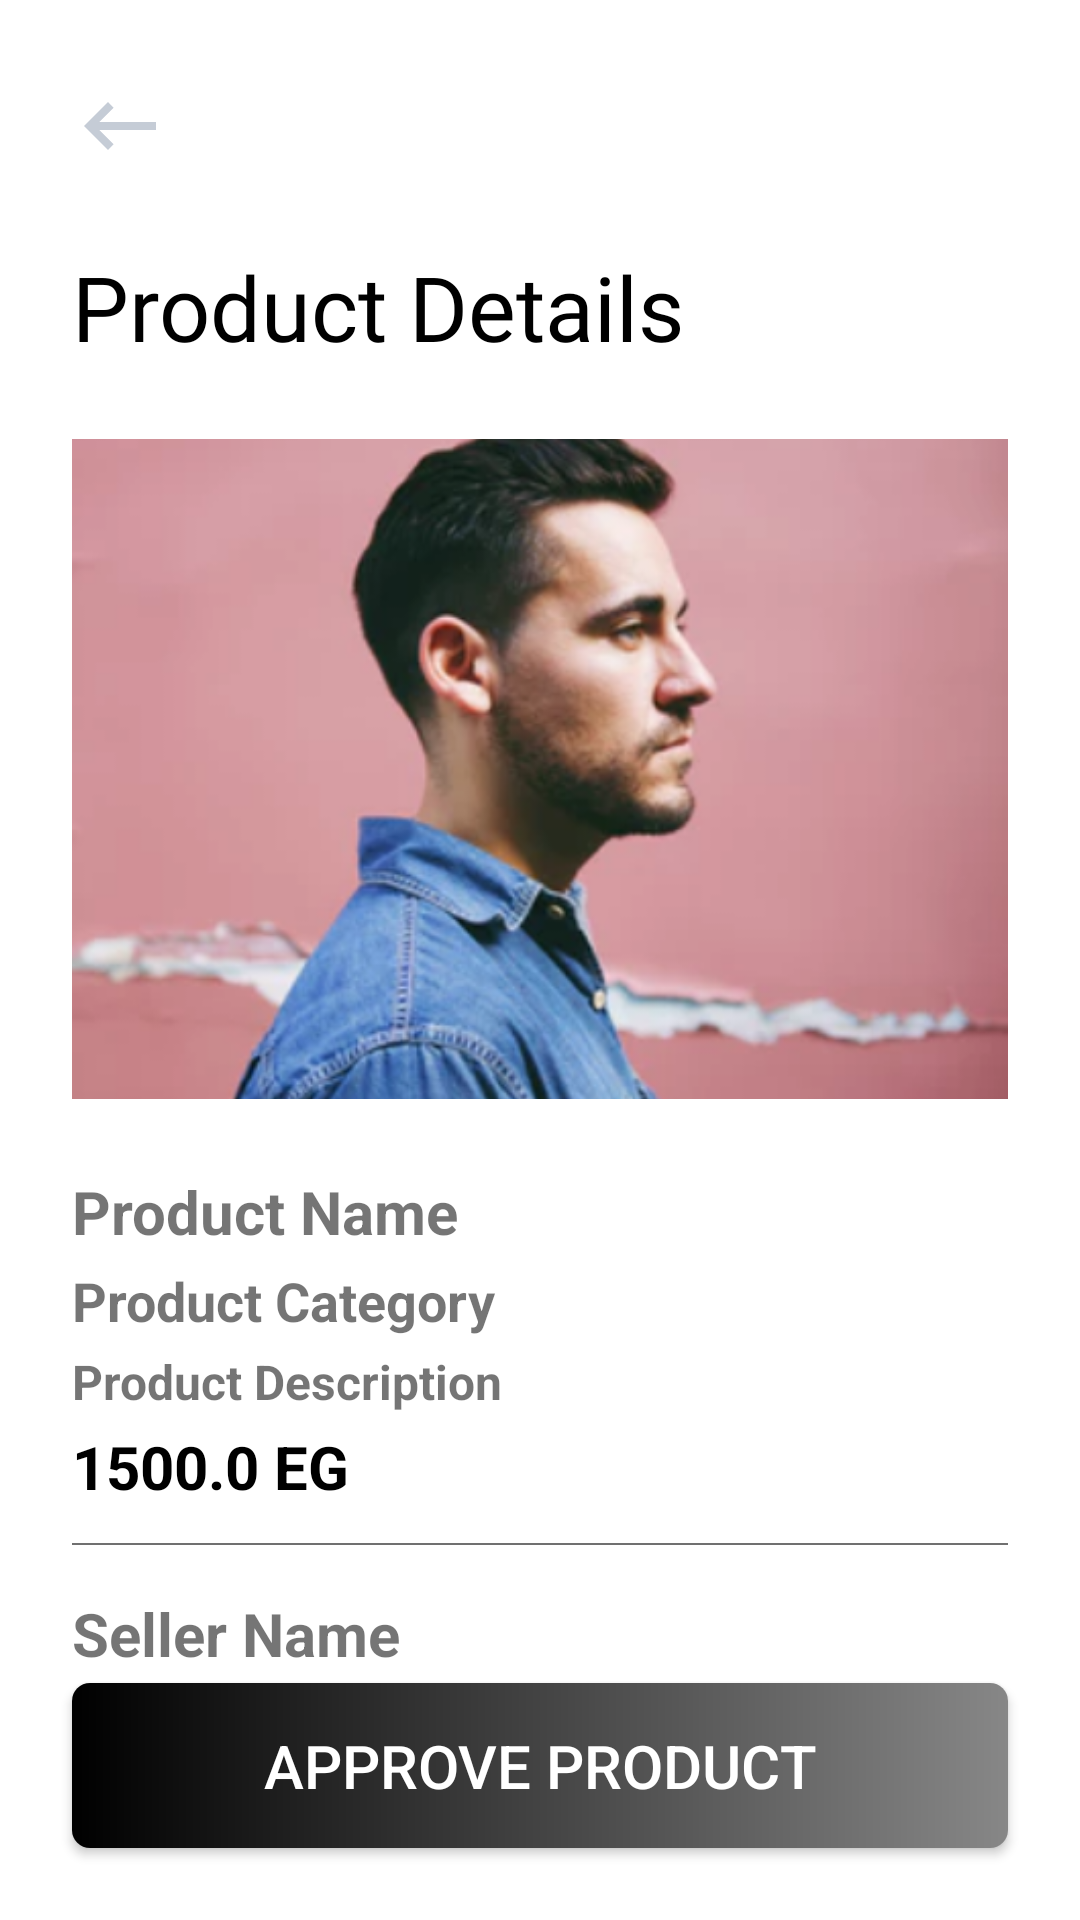

Named icons in this screenshot (1080×1920) and their centers, [x,y]:
keyboard backspace: [120,126]
